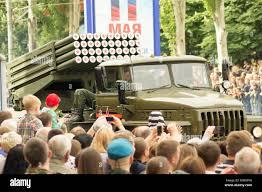MIL_SAM_TEL: (11, 32, 262, 135)
